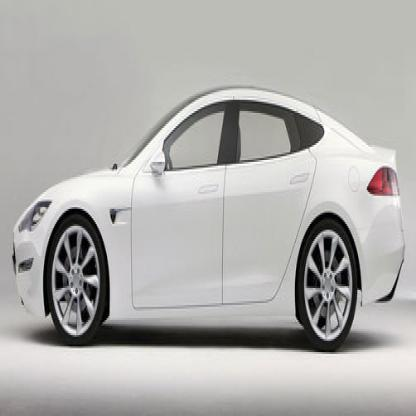Vehicle: (14, 85, 410, 354)
